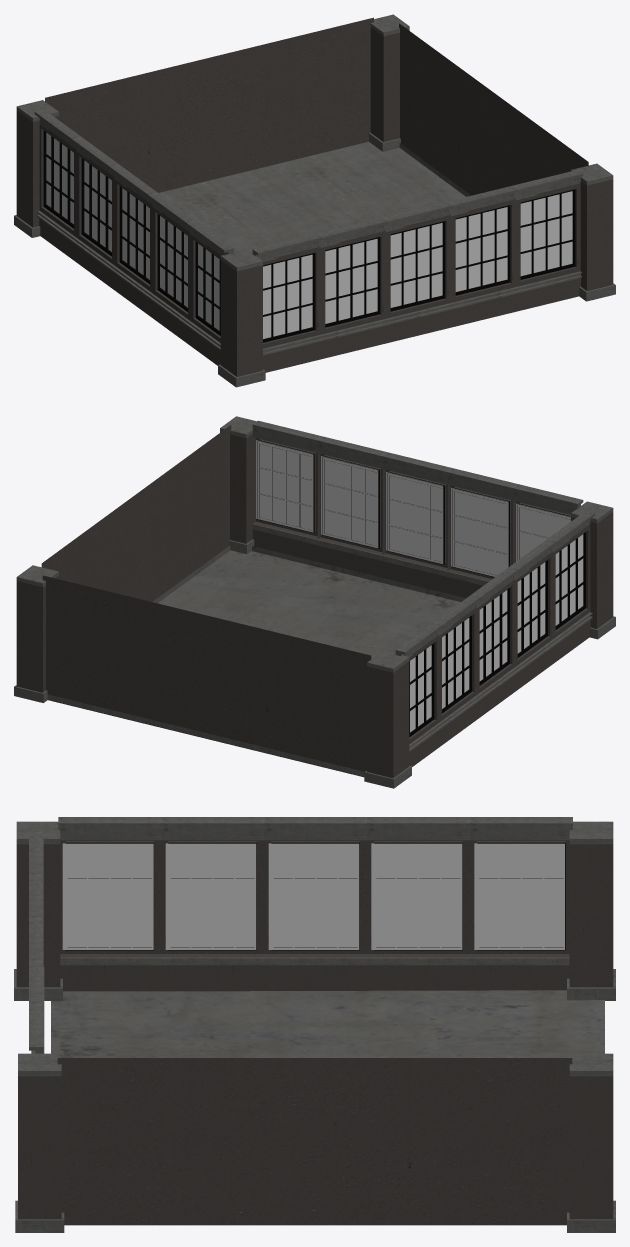
Rendered from Concrete Building Floor 0.fbx.
3 renders of one model, top to bottom at view 1: azimuth 30°, elevation 25°; view 2: azimuth 150°, elevation 25°; view 3: azimuth 270°, elevation 25°, orthographic. The views are drawn at different scales.
Parts seen in each view (by area): view 1: Concrete_Floor_0, WIndows_FLoor_0; view 2: Concrete_Floor_0, WIndows_FLoor_0; view 3: Concrete_Floor_0, WIndows_FLoor_0.
Part boxes in pixels (x1,y1,x2,y2): Concrete_Floor_0: (14, 14, 615, 387); WIndows_FLoor_0: (46, 132, 572, 338); Concrete_Floor_0: (14, 416, 615, 788); WIndows_FLoor_0: (256, 440, 583, 732); Concrete_Floor_0: (14, 817, 615, 1232); WIndows_FLoor_0: (62, 843, 564, 949).
Bounding box in the file's own units: 1528 × 477 × 1547.
